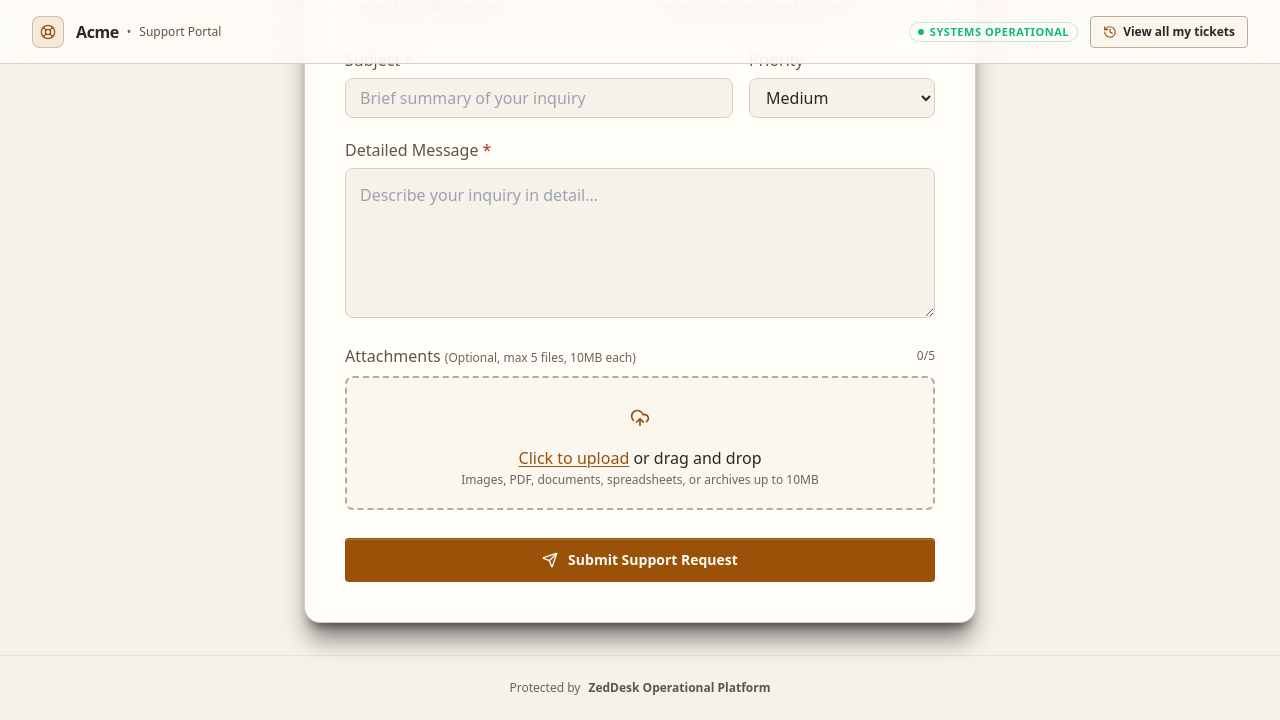
Customer Support Portal Shell & Public Ticket Intake › validates required fields before submitting the intake form
(page scrolled)
Click the button with test id "portal-submit-btn" at (640, 560), box [345,538,935,582]
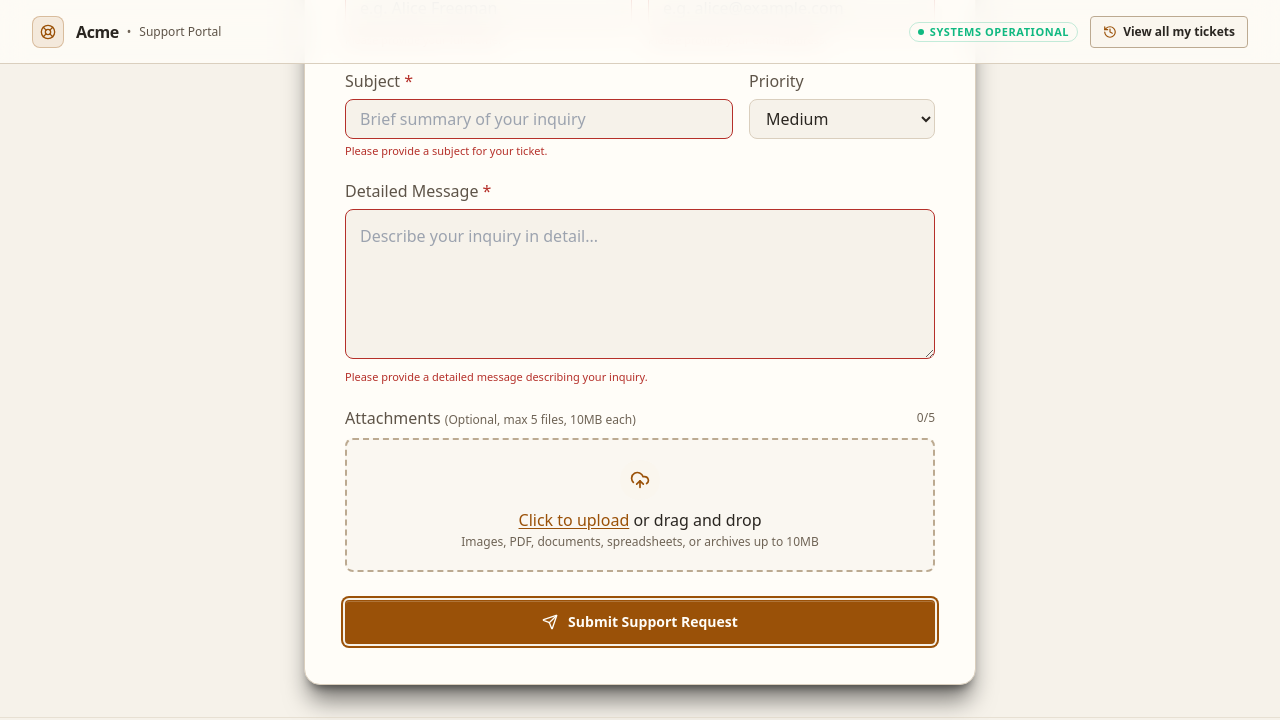
Check: the text with test id "portal-error-subject" shows "Please provide a subject for your ticket", box [345,142,547,158]
Check: the text with test id "portal-error-message-field" shows "Please provide a detailed message", box [345,369,648,384]
